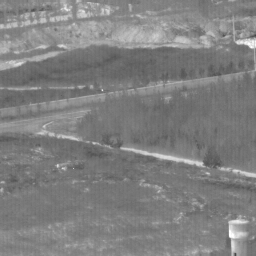aircraft: (102, 90, 104, 92)
